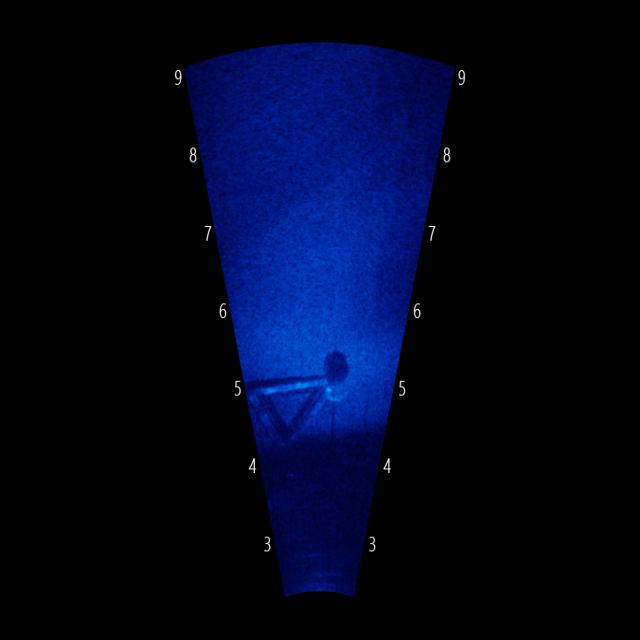triangle: (242, 353, 350, 463)
